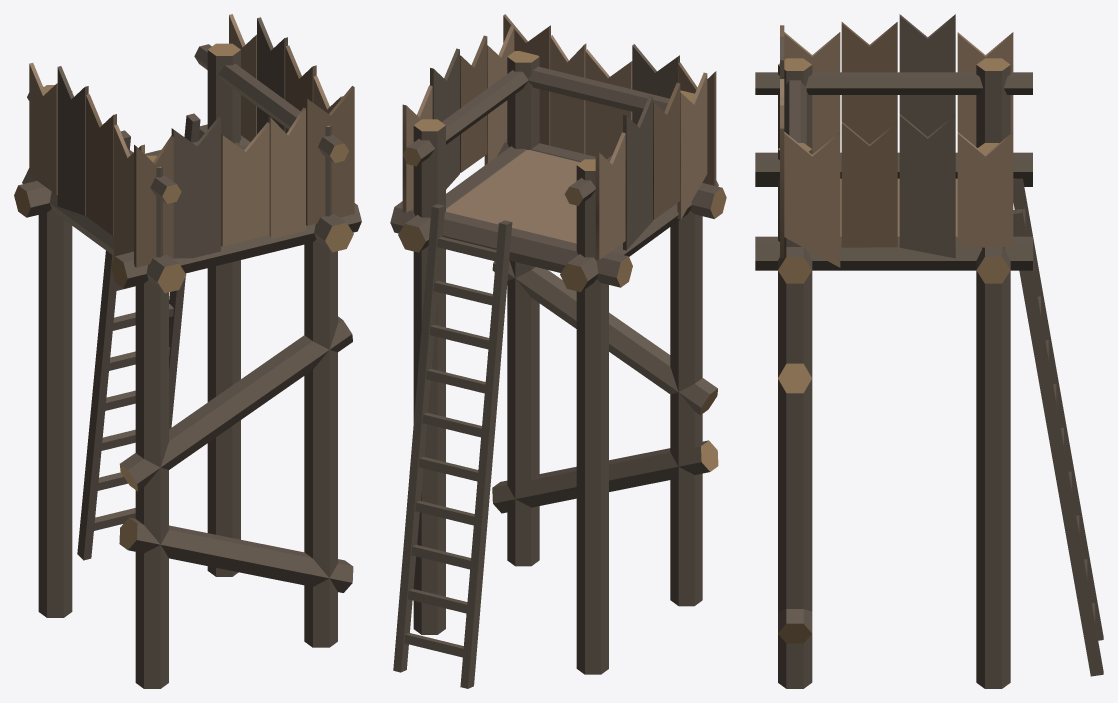
File: Wood_Tower.fbx
3 views of the same model, side by side, from view 1: azimuth 30°, elevation 25°; view 2: azimuth 150°, elevation 25°; view 3: azimuth 270°, elevation 25° (orthographic). The views are drawn at different scales.
Parts seen in each view (by area): view 1: Wood_Tower; view 2: Wood_Tower; view 3: Wood_Tower.
Boxes of the visible parts, x1,y1,x2,y2 form: Wood_Tower: [14, 14, 361, 688]; Wood_Tower: [390, 14, 726, 688]; Wood_Tower: [755, 14, 1103, 688].
Bounding box in the file's own units: 59.79 × 138 × 75.09.
